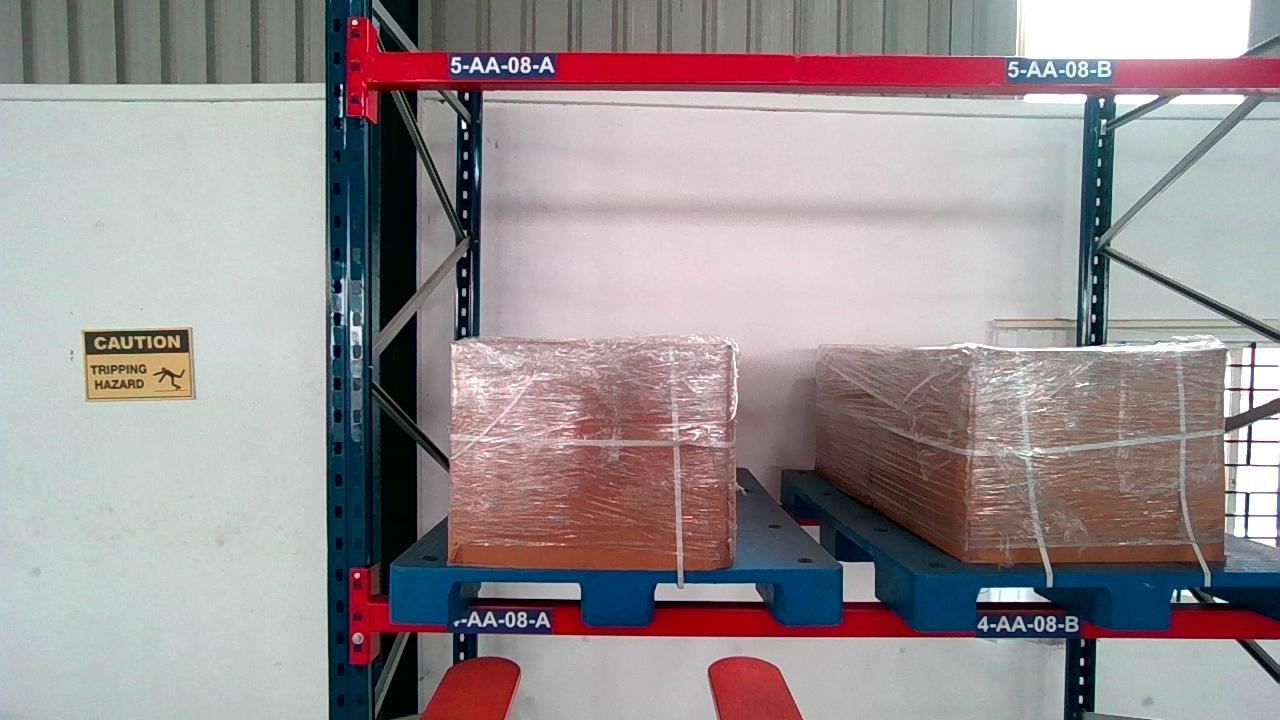h_rack: (368, 601, 1274, 640), (375, 52, 1275, 86)
small_pallet: (388, 566, 840, 622), (917, 571, 1279, 629)
